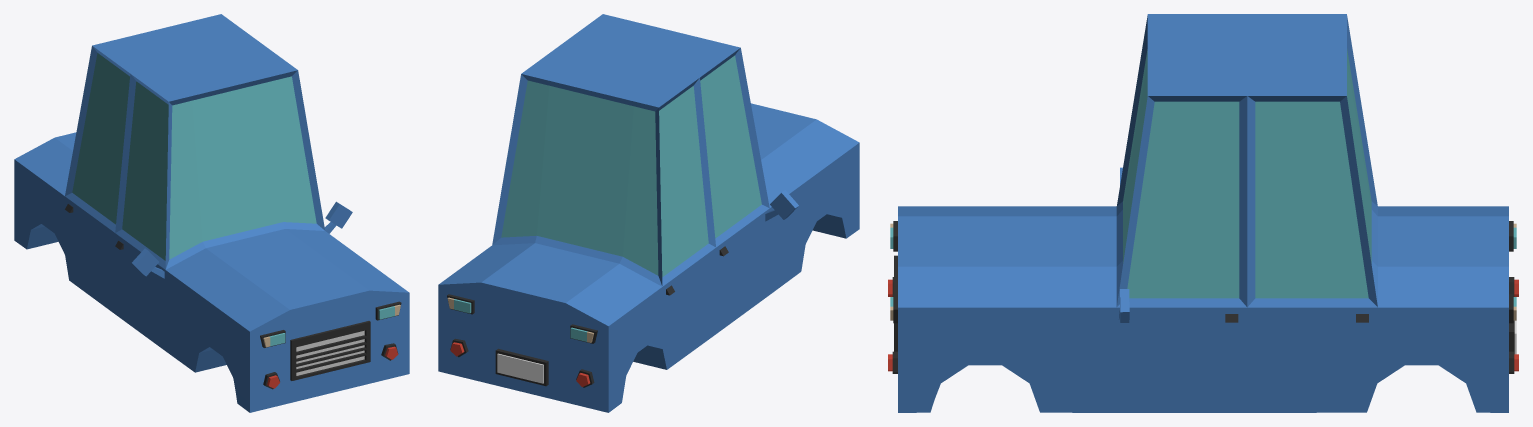
Rendered from CarroUnity2.fbx.
The picture shows the model from 3 angles, left to right: view 1: azimuth 30°, elevation 25°; view 2: azimuth 150°, elevation 25°; view 3: azimuth 270°, elevation 25°; orthographic projection. The views are drawn at different scales.
Visible parts, largest first — view 1: Cube; view 2: Cube; view 3: Cube.
Boxes of the visible parts, x1,y1,x2,y2 form: Cube: (14, 14, 409, 412); Cube: (438, 14, 859, 412); Cube: (888, 14, 1518, 412).
Bounding box in the file's own units: 328 × 341 × 634.
